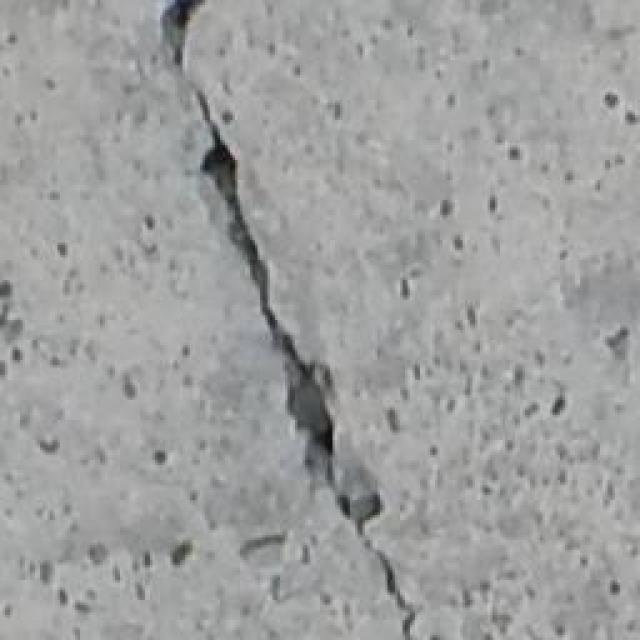concrete-crack: (192, 88, 418, 640), (162, 0, 208, 70)
